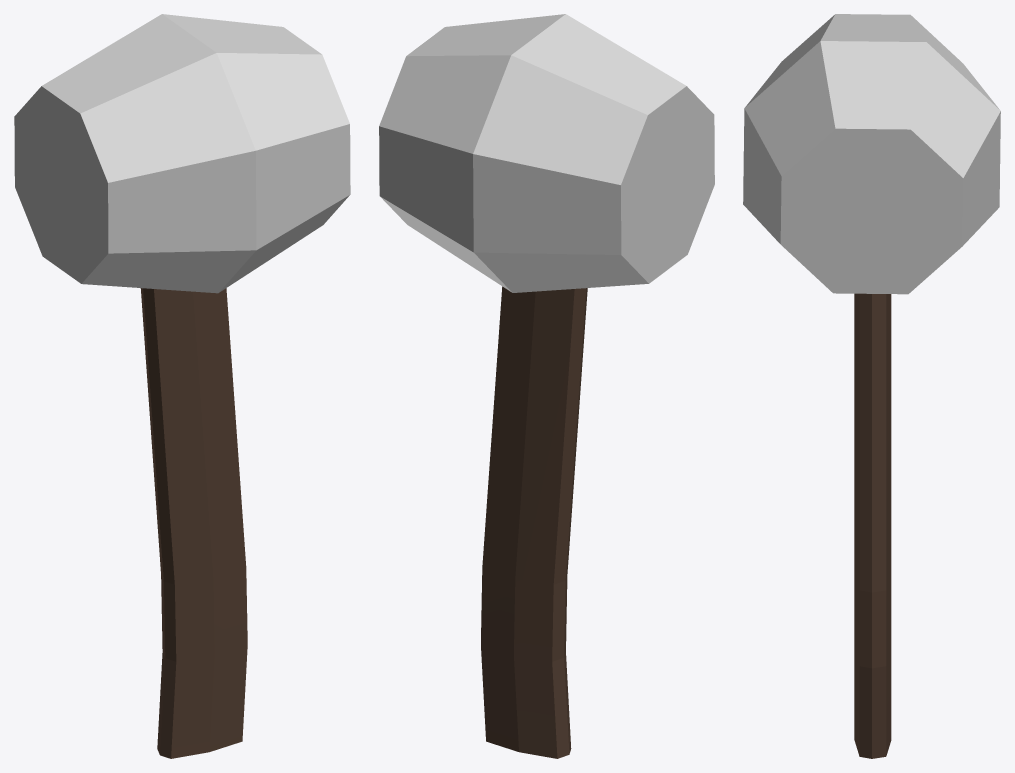
The model's file is Hammer.fbx.
The picture shows the model from 3 angles, left to right: view 1: azimuth 30°, elevation 25°; view 2: azimuth 150°, elevation 25°; view 3: azimuth 270°, elevation 25°; orthographic projection. The views are drawn at different scales.
Parts seen in each view (by area): view 1: Cylinder, Handle; view 2: Cylinder, Handle; view 3: Cylinder, Handle.
Boxes of the visible parts, <box> form: Cylinder: <box>14,14,350,293</box>; Handle: <box>140,288,247,758</box>; Cylinder: <box>379,14,714,292</box>; Handle: <box>481,286,587,758</box>; Cylinder: <box>743,14,1000,294</box>; Handle: <box>854,293,891,758</box>.
Size of the model in its own units: 55.18 by 156 by 52.39.
